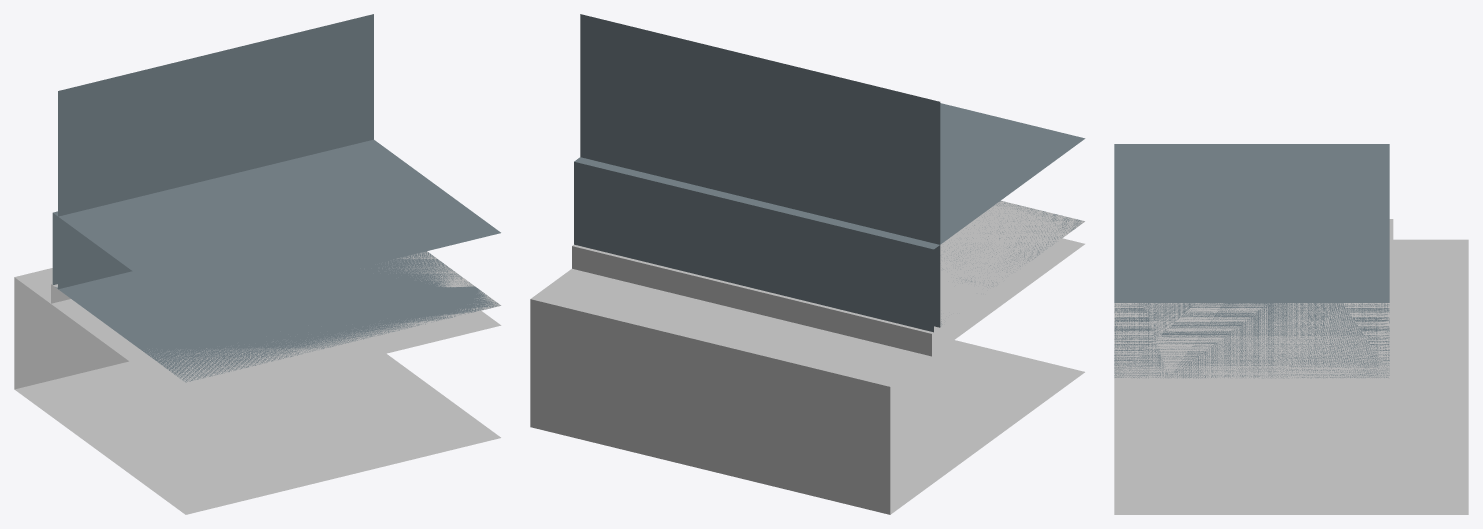
The model's file is cell_2.obj.
3 views of the same model, side by side, from view 1: azimuth 30°, elevation 25°; view 2: azimuth 150°, elevation 25°; view 3: azimuth 270°, elevation 25° (orthographic). The views are drawn at different scales.
Size of the model in its own units: 1 by 1 by 0.94.
